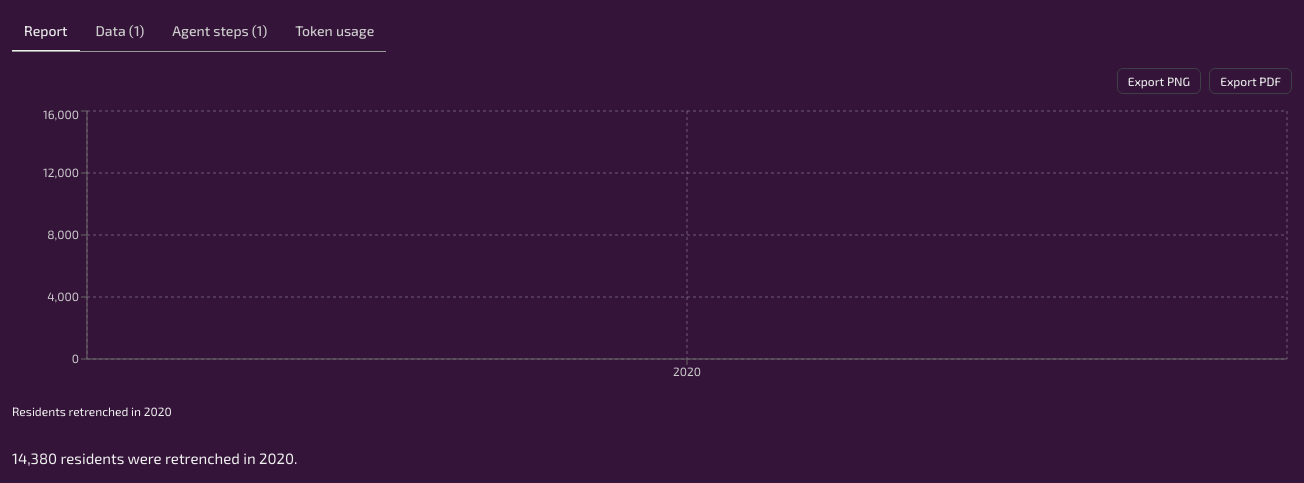
Test: ResultTabs › offers CSV export on the Data tab and chart export on the Report tab
Expected: the button "Export PNG" is shown, [1117,68,1201,94]
Expected: the button "Export CSV" is not shown
Click the tab "Data (1)" at (120, 32), box [84,12,156,52]
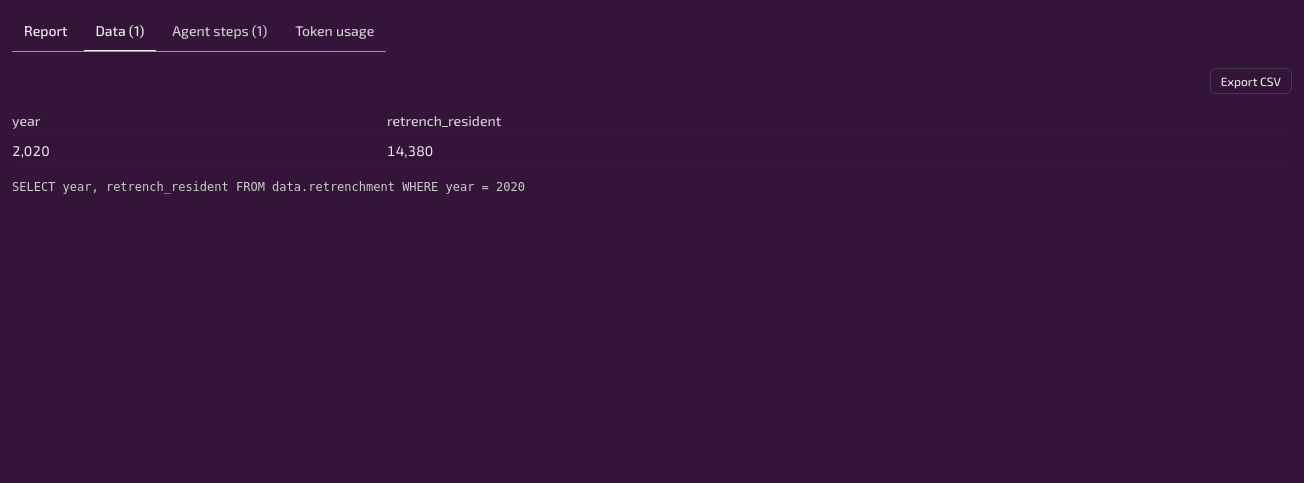
Expected: the button "Export CSV" is shown, [1210,68,1292,94]
Expected: the button "Export PNG" is gone
